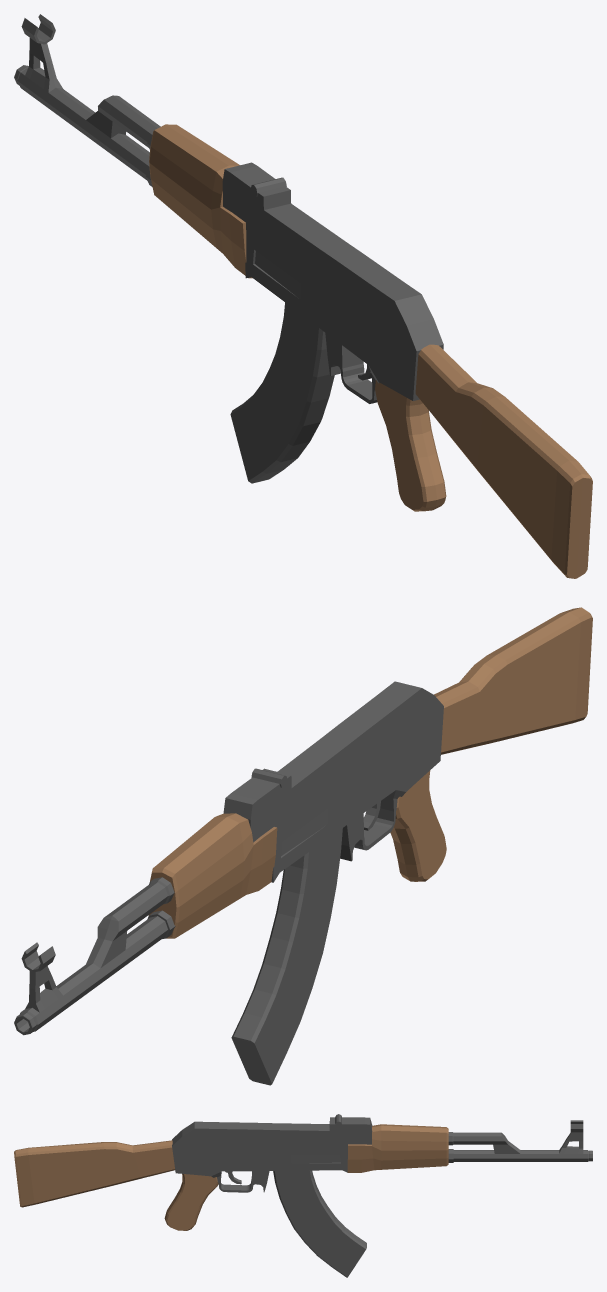
File: Ak47_Flat.fbx
3 views of the same model, one above another, from view 1: azimuth 30°, elevation 25°; view 2: azimuth 150°, elevation 25°; view 3: azimuth 270°, elevation 25° (orthographic). The views are drawn at different scales.
Parts seen in each view (by area): view 1: Plane, Cube, Cube.001, Cylinder.001, Cylinder; view 2: Plane, Cube, Cube.001, Cylinder.001, Cylinder; view 3: Plane, Cube, Cube.001, Cylinder.001, Cylinder.
Boxes of the visible parts, box(x1,y1,x2,y2) form: Plane: box(222, 162, 443, 403); Cube: box(375, 344, 592, 578); Cube.001: box(230, 302, 334, 483); Cylinder.001: box(149, 124, 252, 278); Cylinder: box(14, 14, 160, 186); Plane: box(223, 681, 443, 882); Cube: box(390, 607, 592, 881); Cube.001: box(231, 828, 342, 1085); Cylinder.001: box(148, 813, 277, 938); Cylinder: box(14, 877, 175, 1035); Plane: box(172, 1114, 372, 1192); Cube: box(14, 1140, 218, 1230); Cube.001: box(273, 1170, 366, 1277); Cylinder.001: box(347, 1124, 448, 1172); Cylinder: box(448, 1120, 592, 1162).
Bounding box in the file's own units: 33.83 × 272 × 902.
